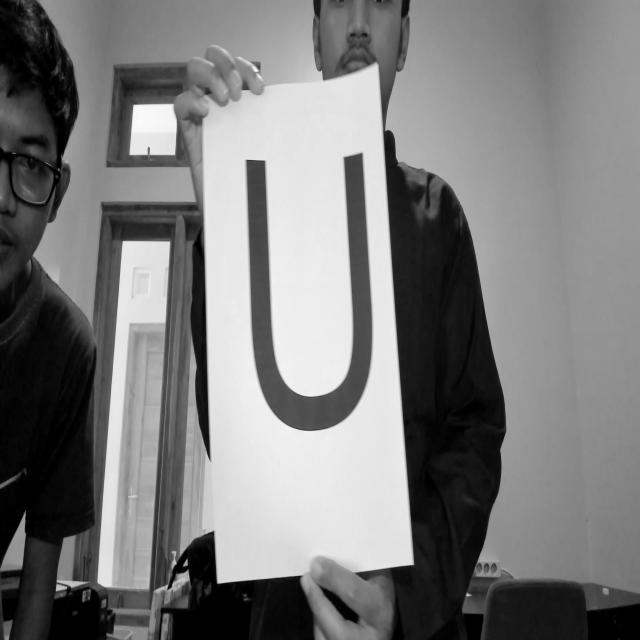u: (240, 146, 380, 442)
